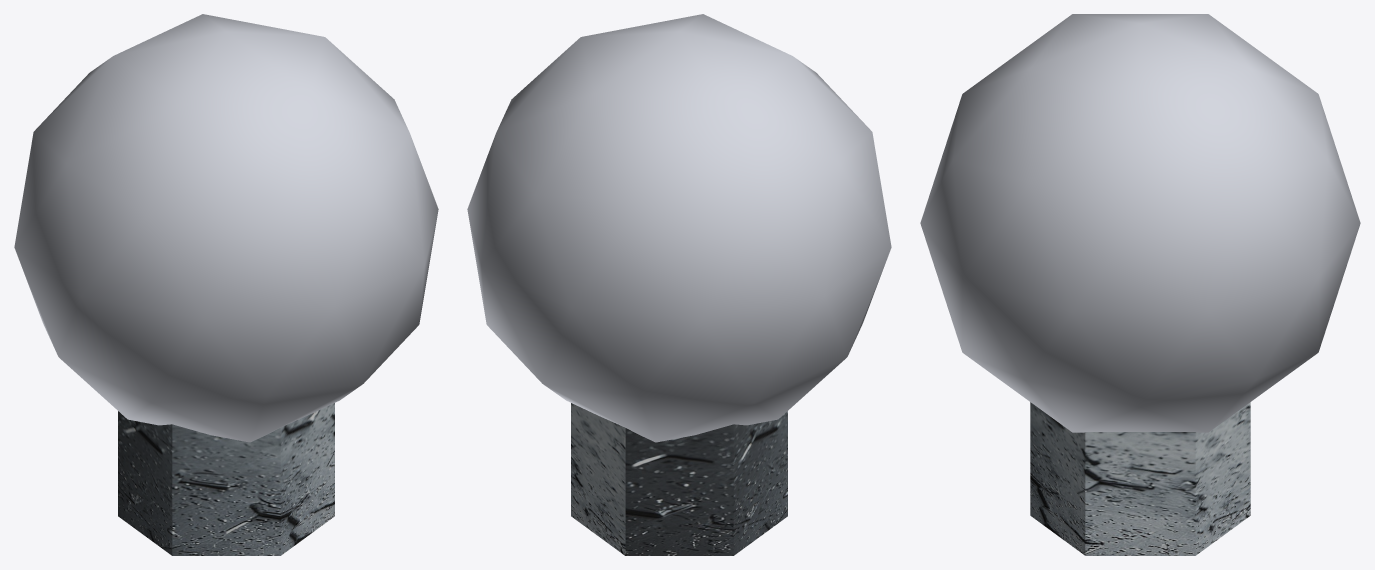
The model's file is LightBulb002.fbx.
The picture shows the model from 3 angles, left to right: view 1: azimuth 30°, elevation 25°; view 2: azimuth 150°, elevation 25°; view 3: azimuth 270°, elevation 25°; orthographic projection.
Visible parts, largest first — view 1: LightBulb001; view 2: LightBulb001; view 3: LightBulb001.
Boxes of the visible parts, bbox=[...] form: LightBulb001: bbox=[14, 14, 438, 555]; LightBulb001: bbox=[467, 14, 891, 555]; LightBulb001: bbox=[920, 14, 1360, 555].
Bounding box in the file's own units: 190 × 247 × 200.
2 materials, 1 textured.
